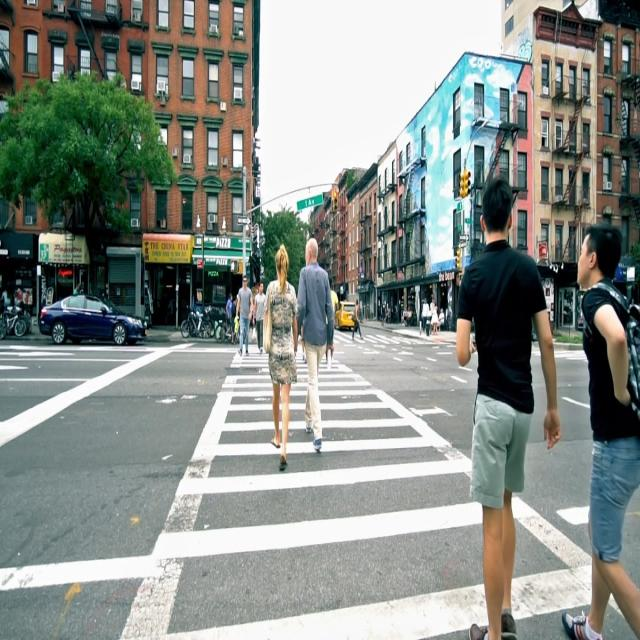Persona: (446, 172, 562, 640), (556, 206, 640, 640), (296, 237, 337, 458), (262, 242, 300, 471), (233, 270, 255, 356)
